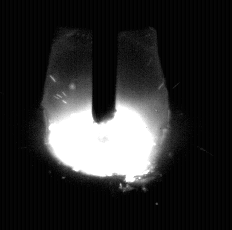arame: (92, 0, 117, 124)
poca: (45, 0, 170, 230)
